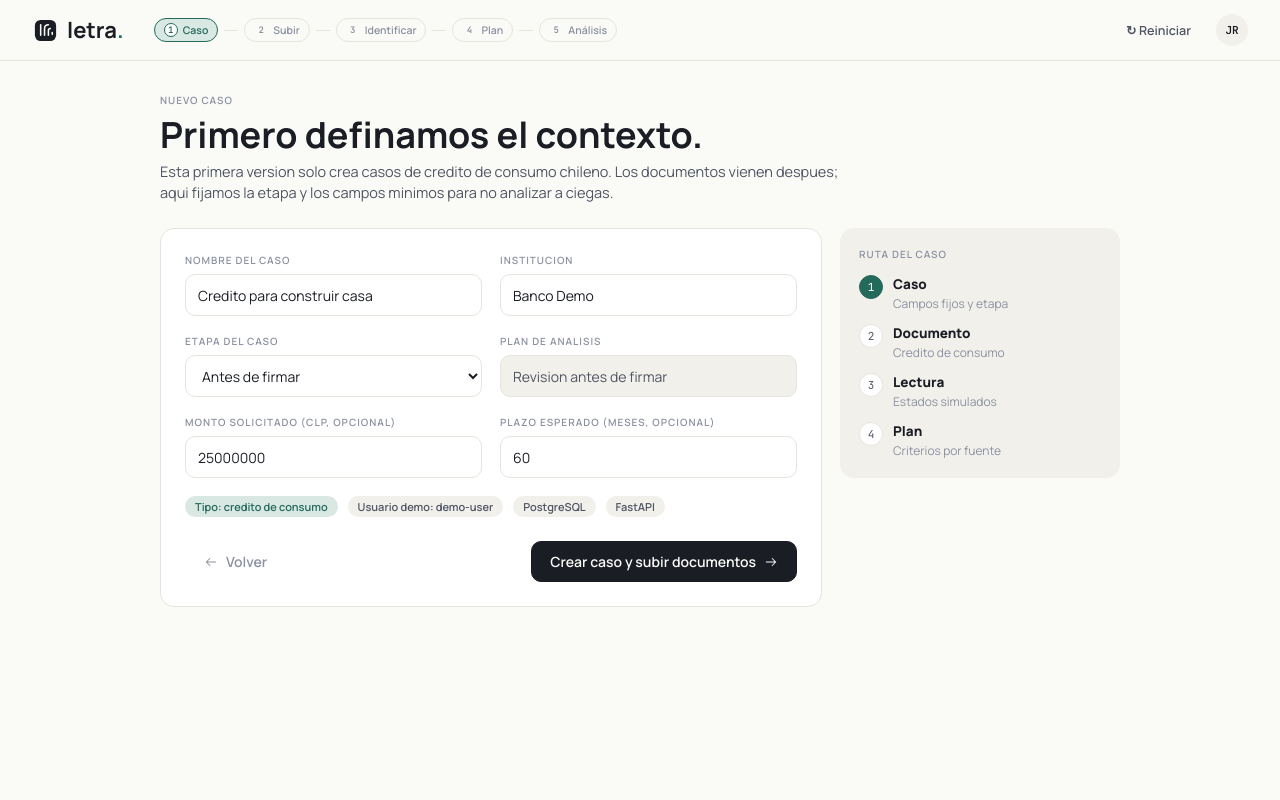
Test: CaseSetup › rejects invalid optional numeric fields instead of dropping them
The image size is (1280, 800).
Replace the text in the field labelled "Monto solicitado (CLP, opcional)" with "abc" at (334, 457), box [185,436,482,478]
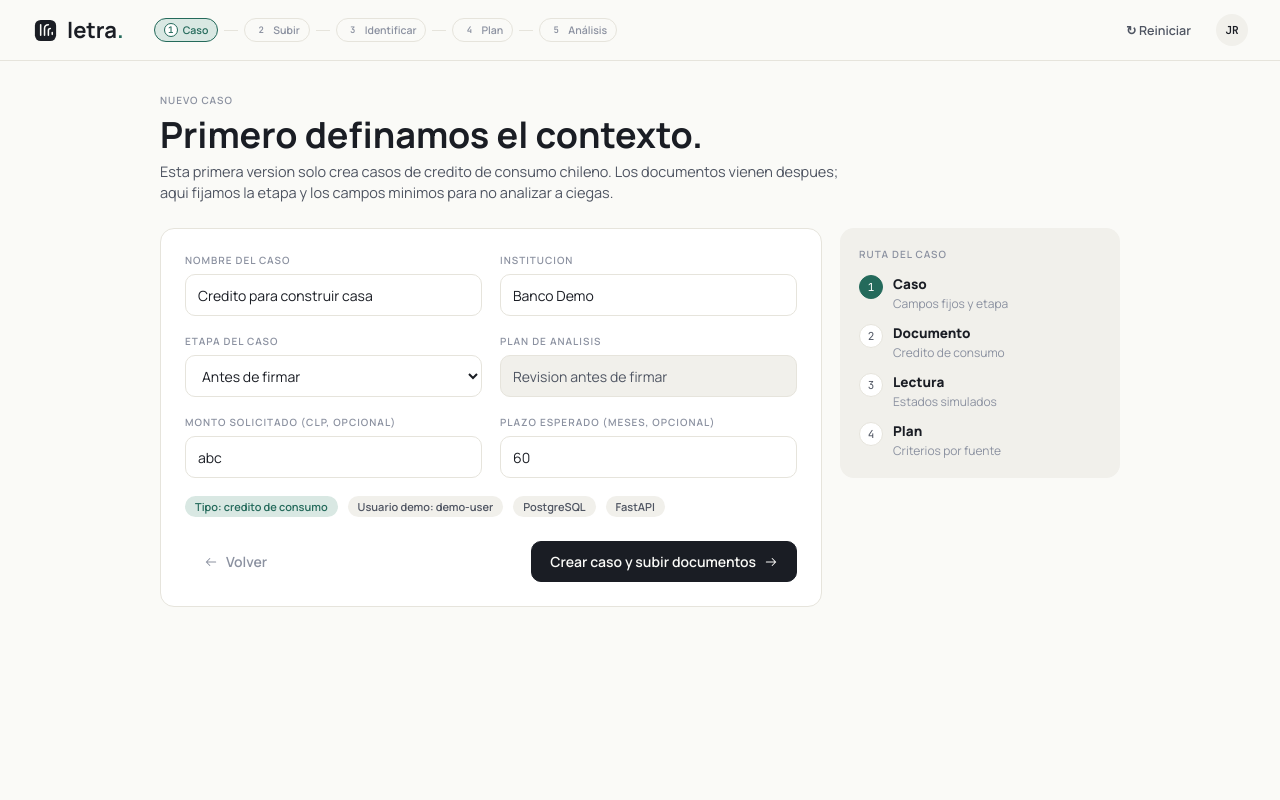
Click the button "Crear caso y subir documentos" at (664, 562), box [531,541,797,582]
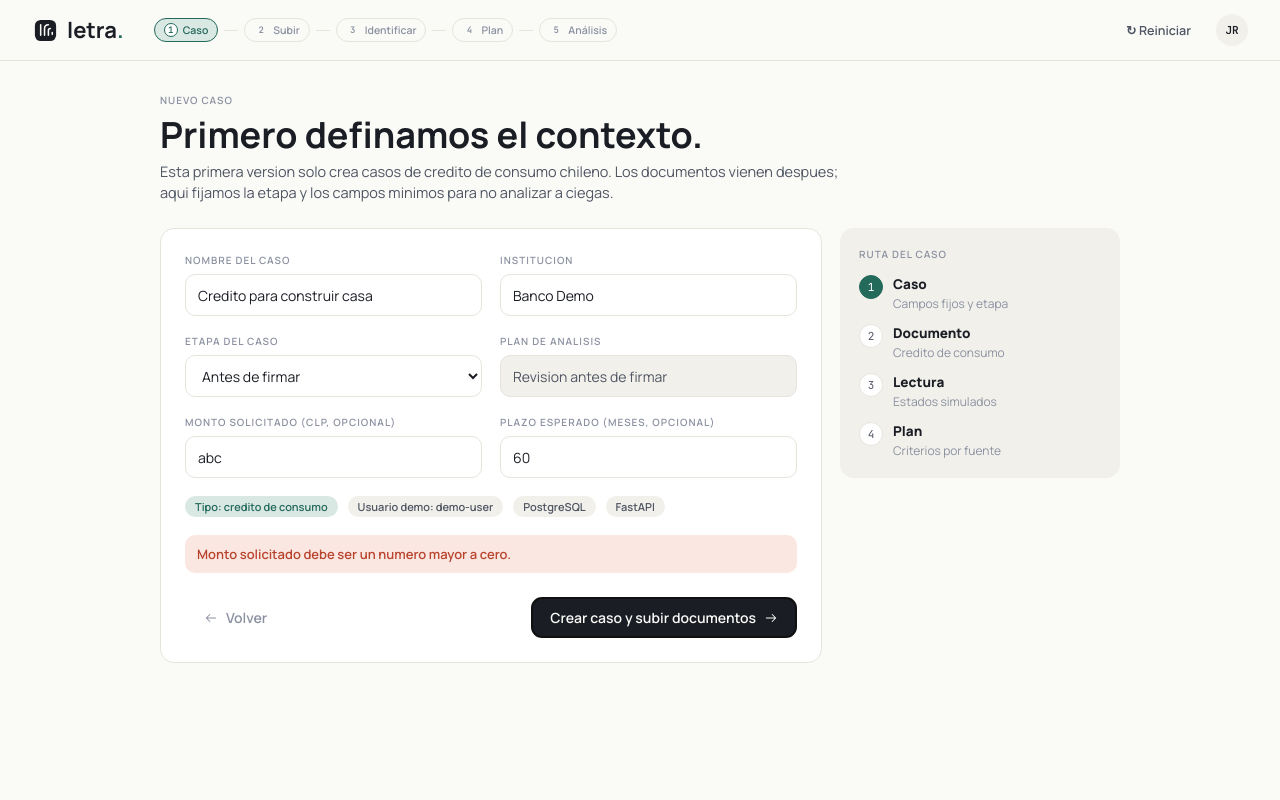
Now the text "Monto solicitado debe ser un numero mayor a cero." is shown, box [185,535,797,573]
